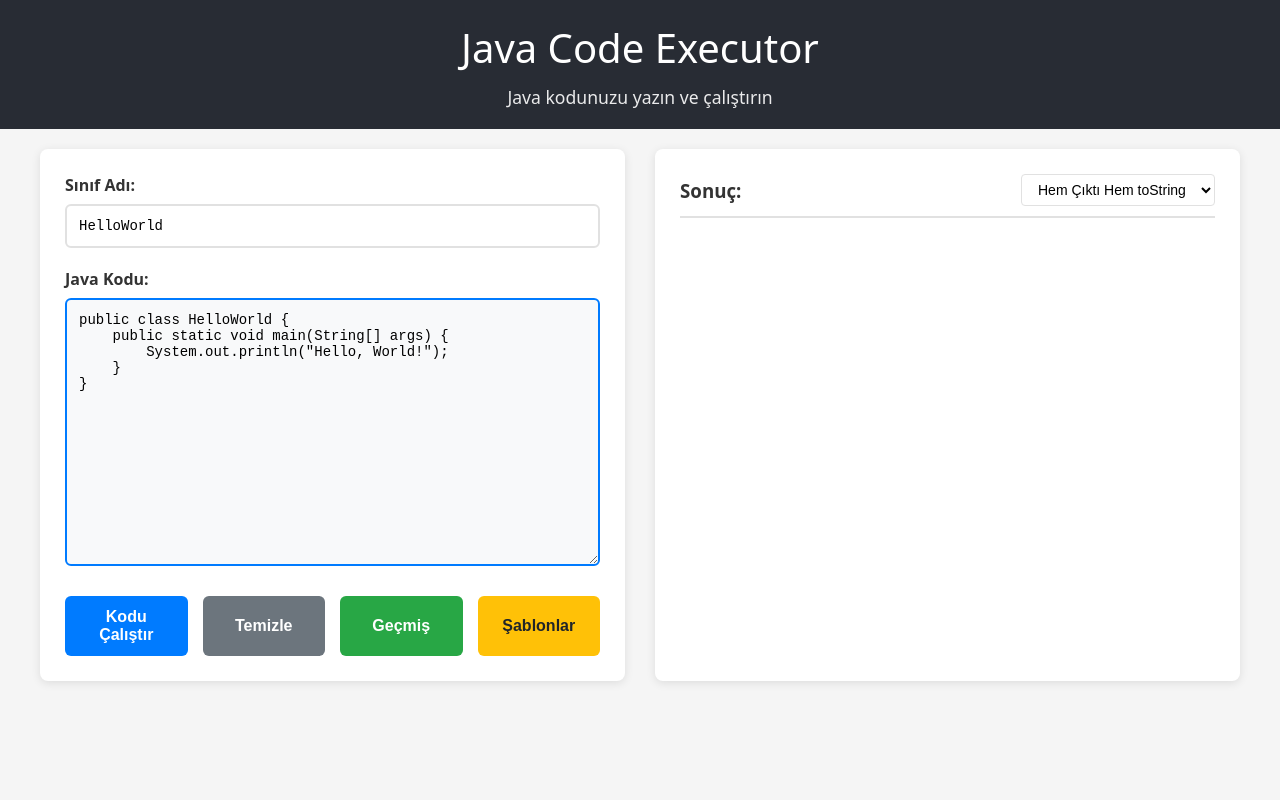
Test: App Component › network error handling
What coordinates should you click on to do the following:
click the button "Kodu Çalıştır"
I would click on:
 (126, 626)
Its box is [65,596,188,656].
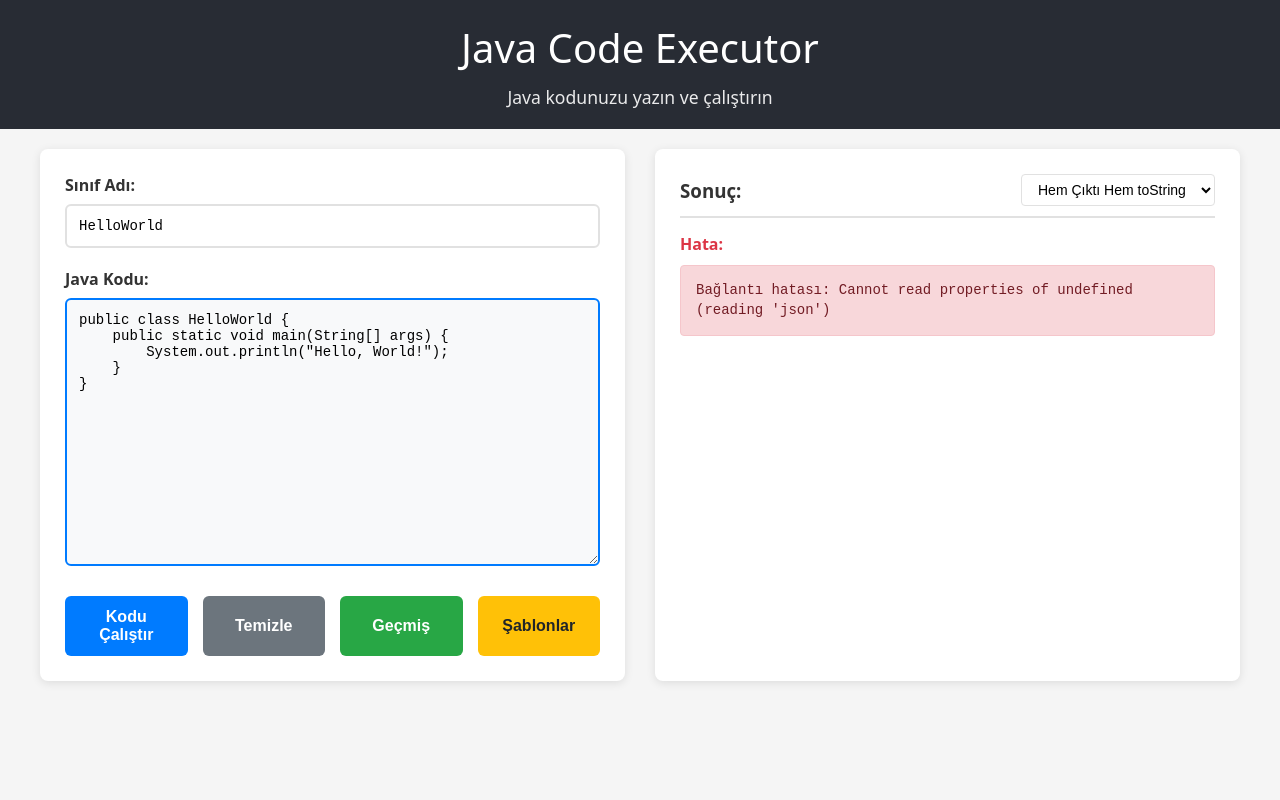
Expected: the text "Bağlantı hatası" is shown, [696,282,1141,318]
